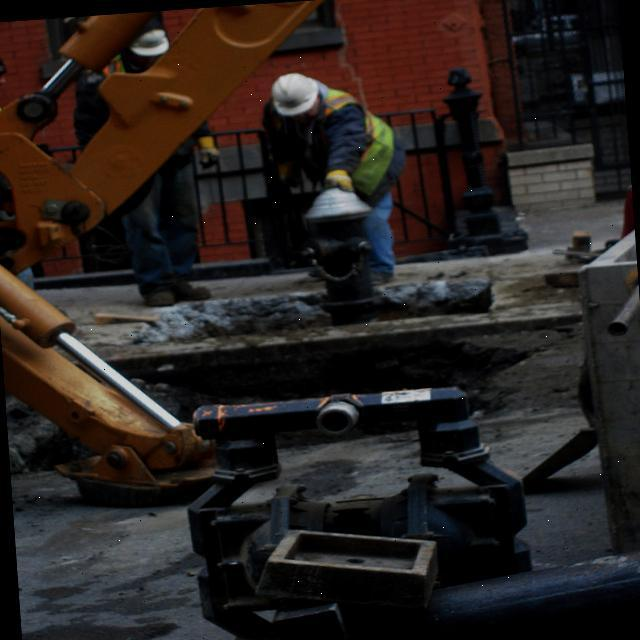fire_hydrant: (298, 184, 390, 326)
